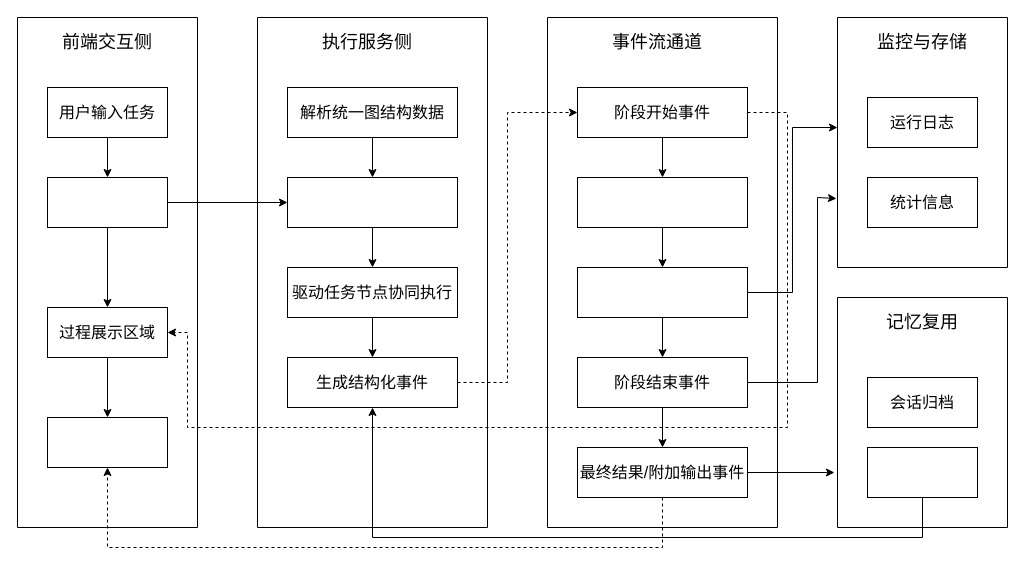
The diagram is 1025 pixels wide and 573 high, and some of its shapes have lost their labels. The box of each missing label's shape, as (x1, y1, x2, y2) in pixels:
历史记忆提取: (866, 446, 978, 498)
发送运行请求: (46, 176, 168, 228)
构建执行单元与调度器: (286, 176, 458, 228)
结果展示区域: (46, 416, 168, 468)
节点结果事件: (576, 266, 748, 318)
过程增量事件: (576, 176, 748, 228)
